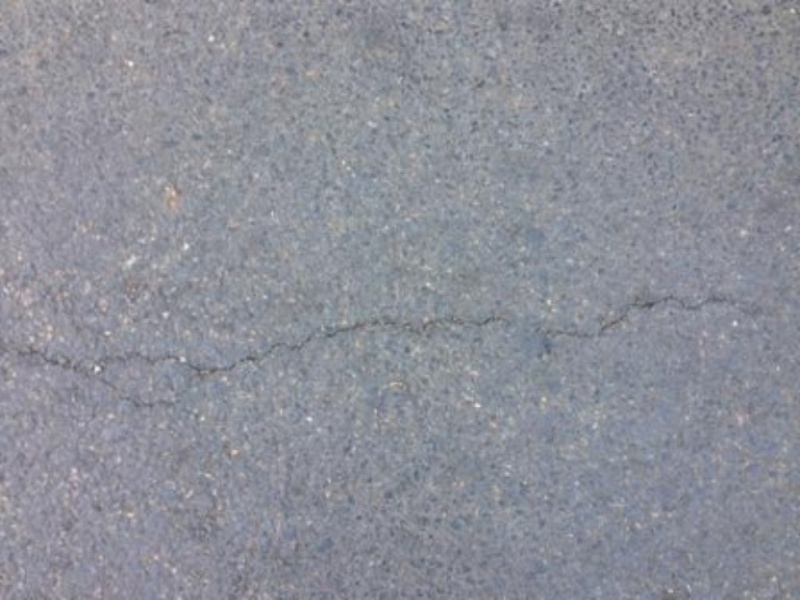crack: (24, 278, 736, 431)
